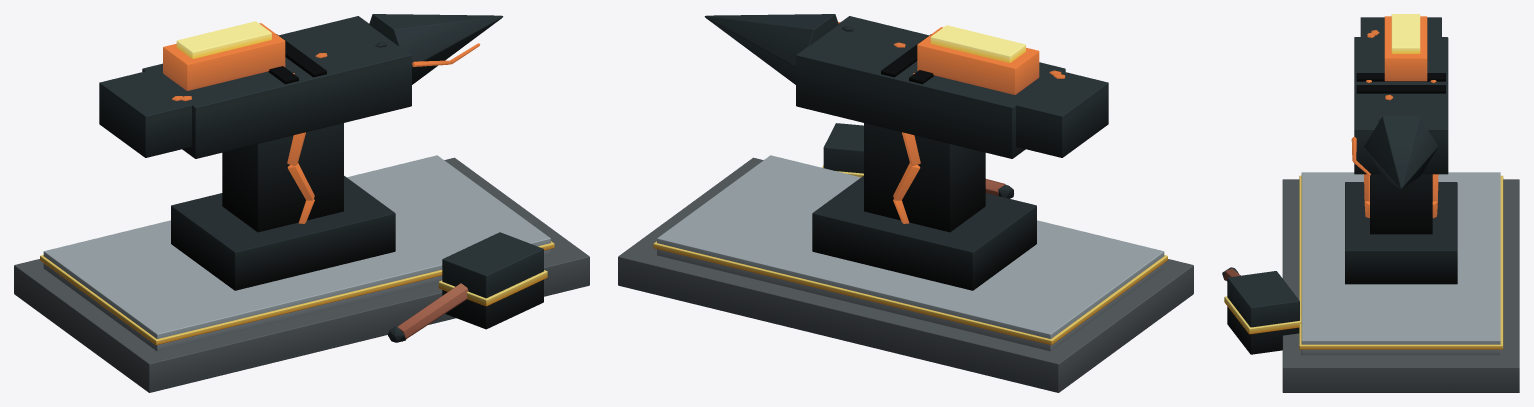
File: colossal_anvil.glb
The picture shows the model from 3 angles, left to right: view 1: azimuth 30°, elevation 25°; view 2: azimuth 150°, elevation 25°; view 3: azimuth 270°, elevation 25°; orthographic projection. The views are drawn at different scales.
Parts seen in each view (by area): view 1: colossal_anvil; view 2: colossal_anvil; view 3: colossal_anvil.
Part boxes in pixels (<box>): colossal_anvil: <box>14,14,589,392</box>; colossal_anvil: <box>618,14,1193,392</box>; colossal_anvil: <box>1222,14,1519,392</box>.
Bounding box in the file's own units: 9.4 × 5.5 × 6.28.
5 materials, 5 textured.
